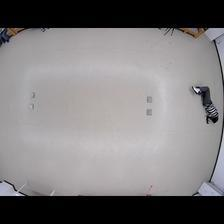fall: (191, 82, 220, 126)
